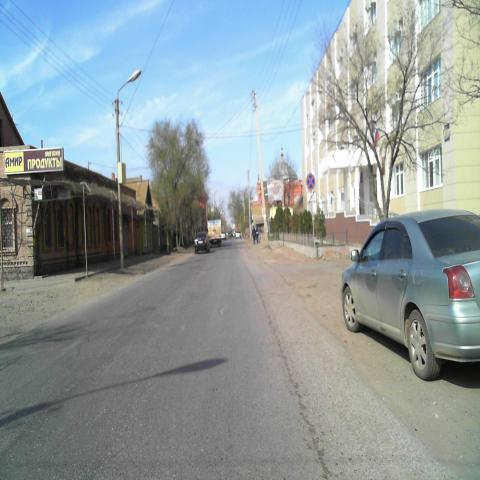3_27: (306, 173, 316, 191)
